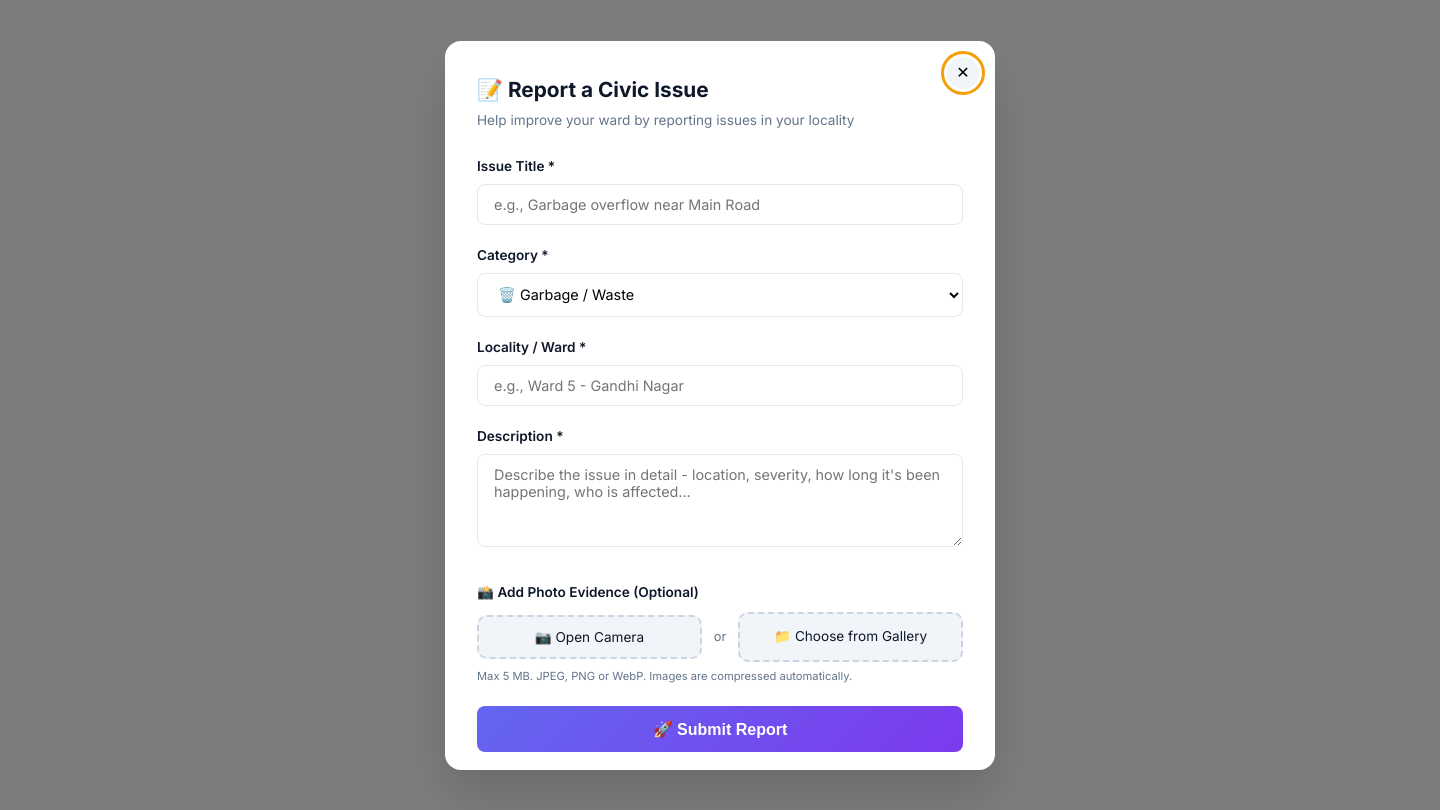
it: complaint form › rejects short text before creating a record
Type "Short" into the field labelled "Issue Title *".
click(720, 204); type("Short")  # box [477, 184, 963, 225]
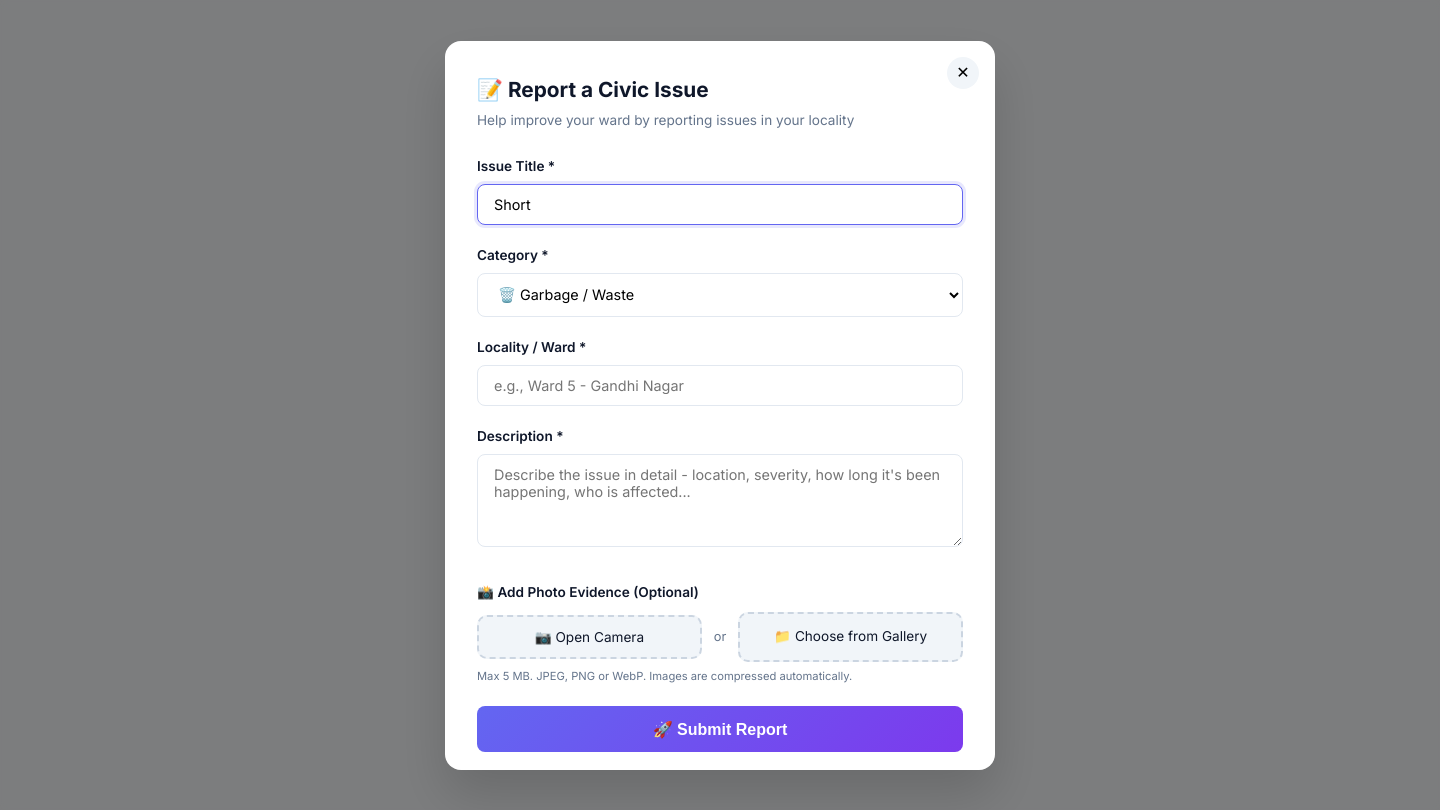
Type "Ward 12" into the field labelled "Locality / Ward *".
click(720, 385); type("Ward 12")  # box [477, 365, 963, 406]
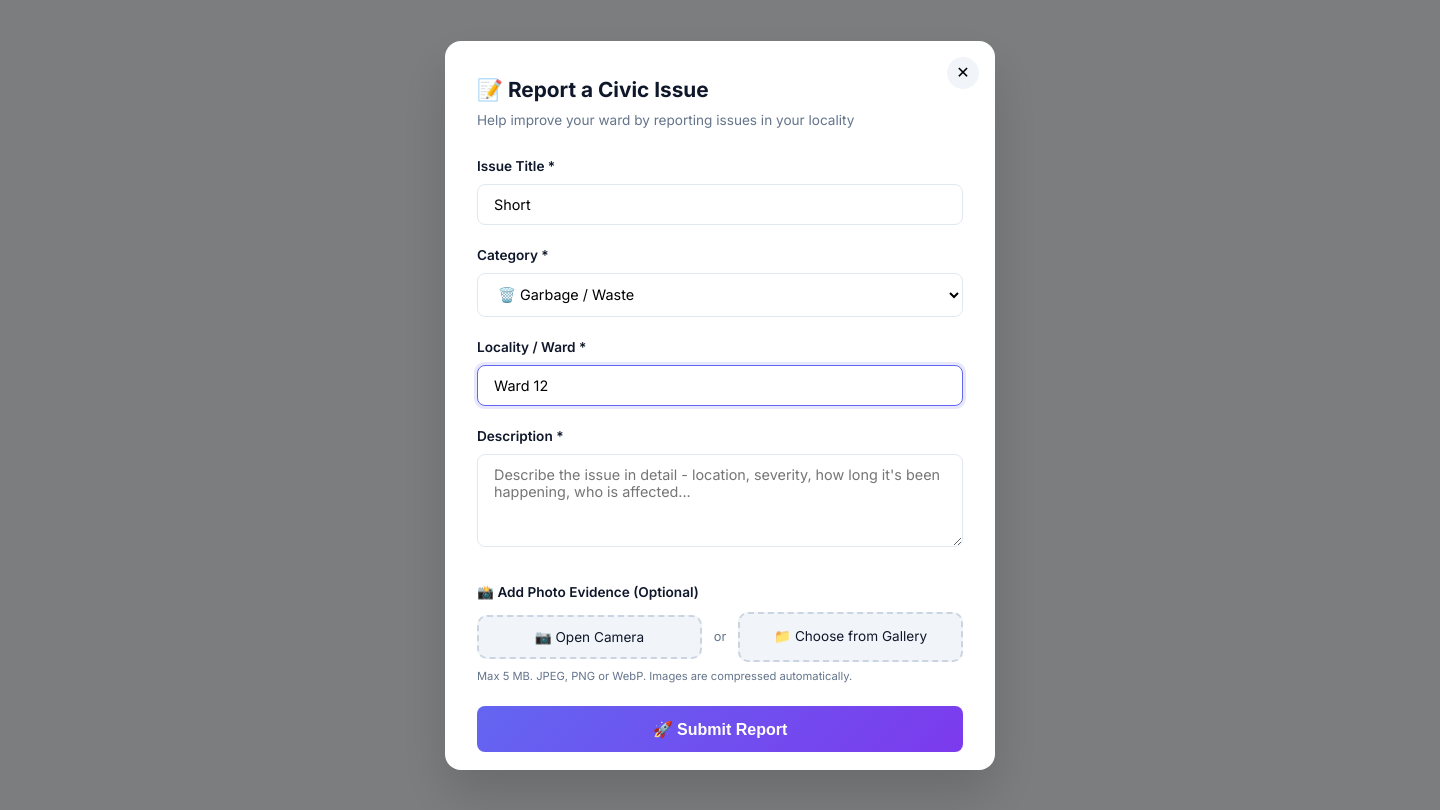
Type "Too brief" into the text box labelled "Description *".
click(720, 500); type("Too brief")  # box [477, 454, 963, 547]
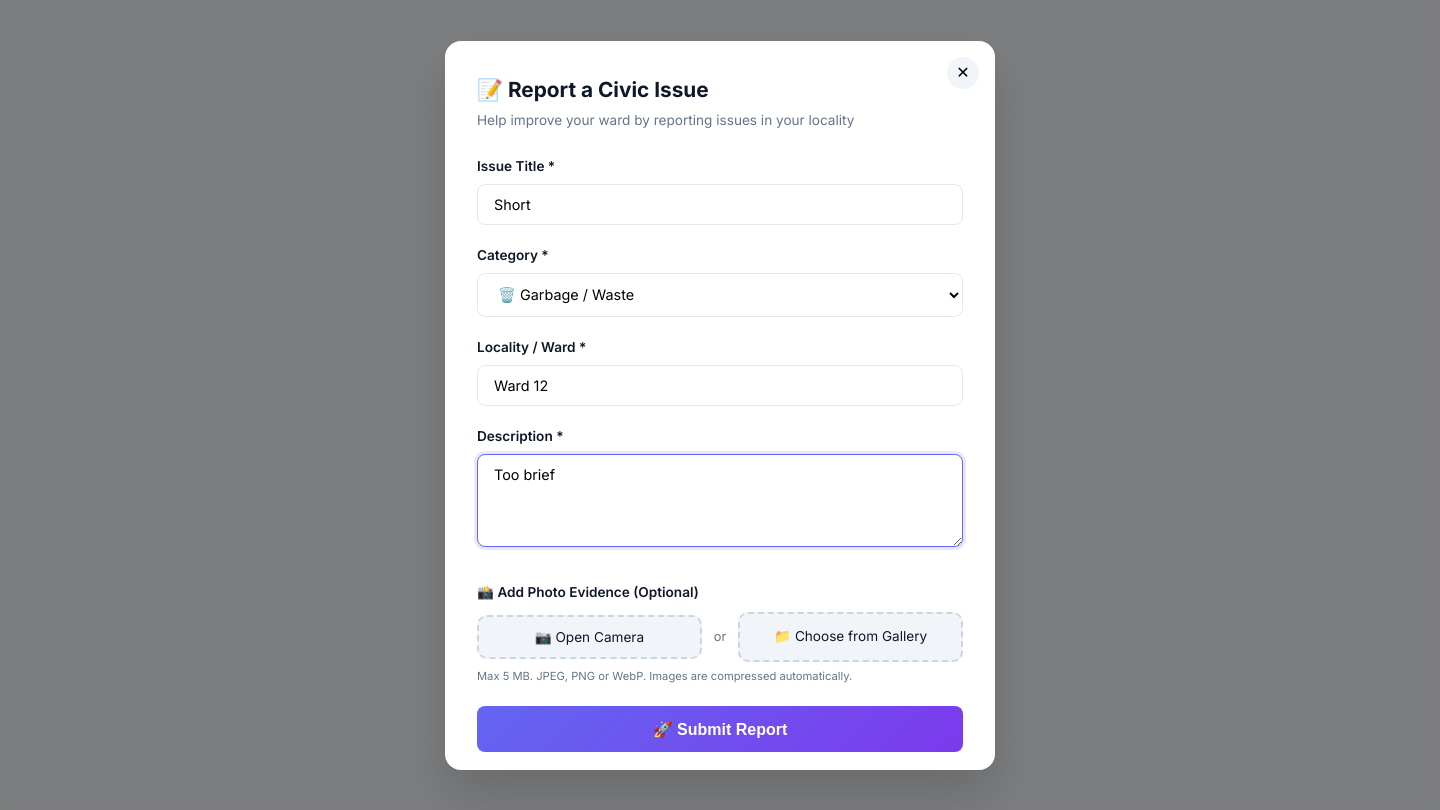
Click the button "🚀 Submit Report".
click(720, 729)  # box [477, 706, 963, 752]
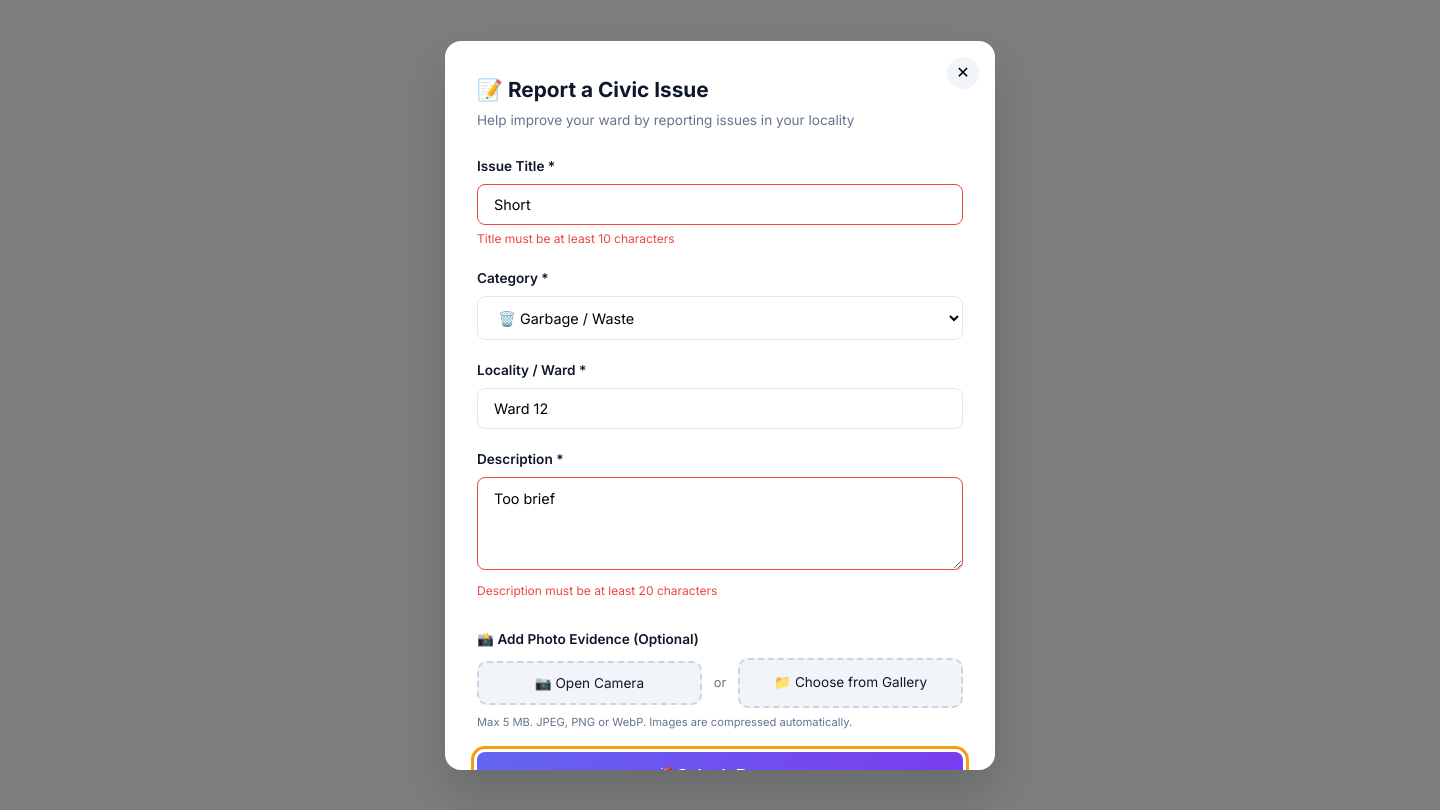
Expected: the text "Title must be at least 10 characters" is shown, [477, 231, 674, 246]
Expected: the text "Description must be at least 20 characters" is shown, [477, 583, 717, 598]
